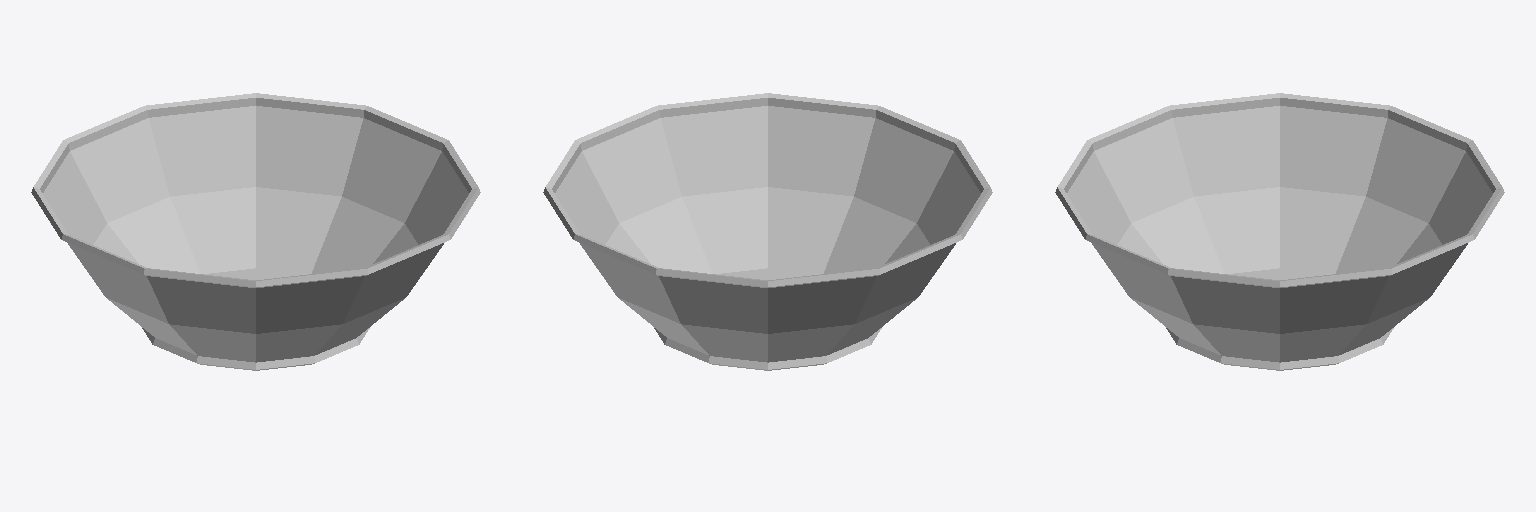
File: basket.obj
3 renders of one model, left to right at view 1: azimuth 30°, elevation 25°; view 2: azimuth 150°, elevation 25°; view 3: azimuth 270°, elevation 25°, orthographic.
Visible parts, largest first — view 1: willow_basket_shallow; view 2: willow_basket_shallow; view 3: willow_basket_shallow.
Boxes of the visible parts, <box> form: willow_basket_shallow: <box>31,93,480,370</box>; willow_basket_shallow: <box>543,93,992,370</box>; willow_basket_shallow: <box>1055,93,1504,370</box>.
Bounding box in the file's own units: 0.6113 × 0.2065 × 0.6113.